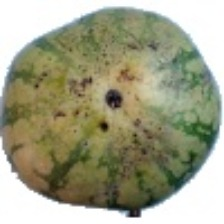watermelon: (42, 41, 223, 175)
